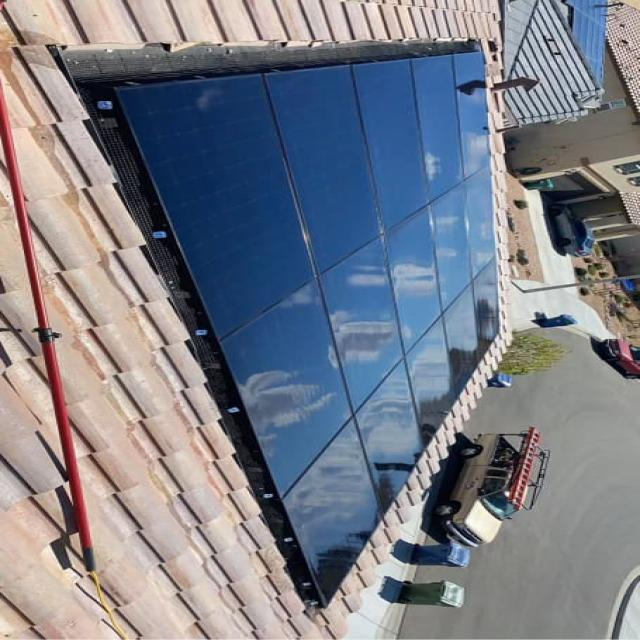clean-solar-panel: (112, 51, 497, 601)
